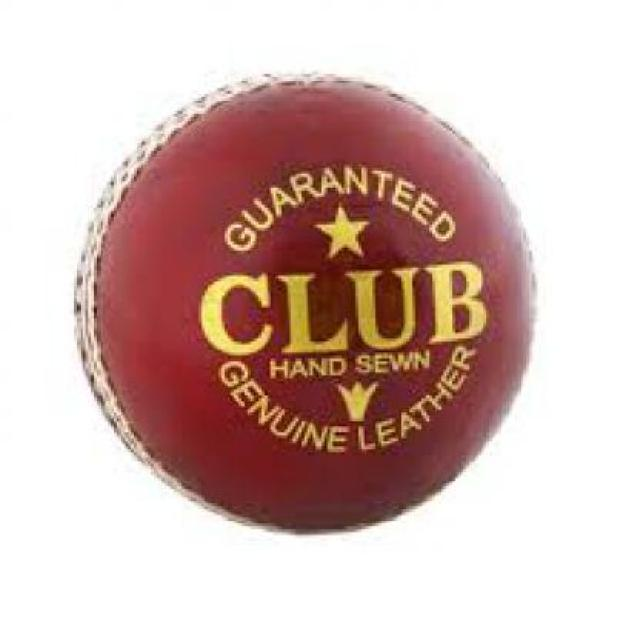ball: (49, 45, 578, 546)
